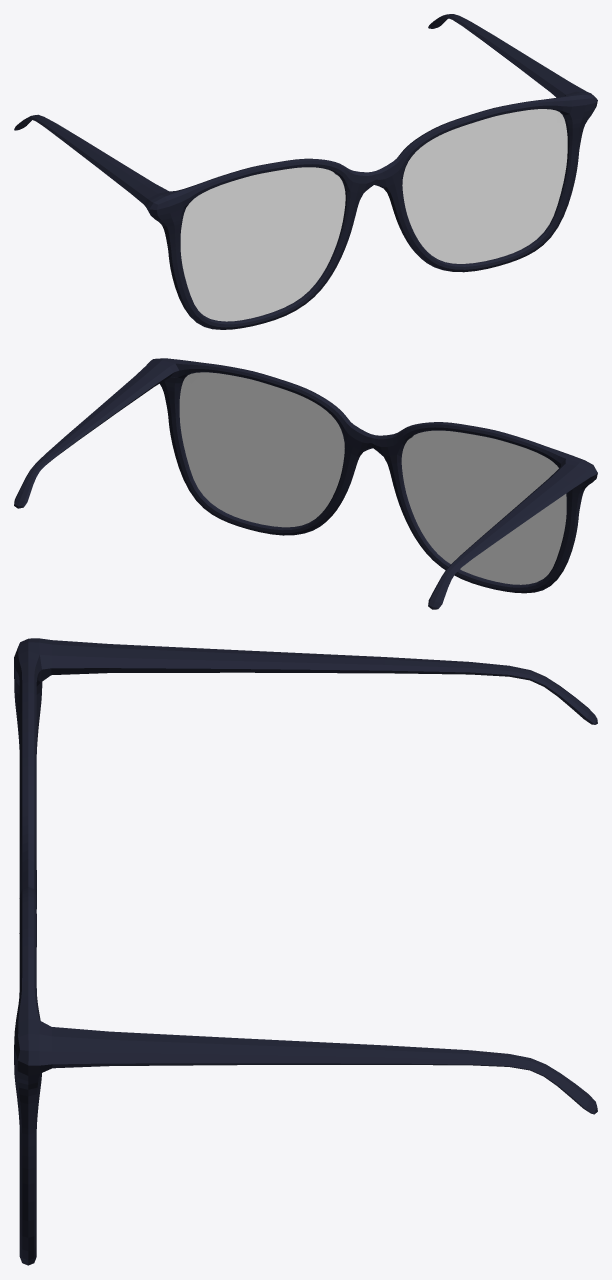
Rendered from Gafas_.fbx.
3 views of the same model, one above another, from view 1: azimuth 30°, elevation 25°; view 2: azimuth 150°, elevation 25°; view 3: azimuth 270°, elevation 25° (orthographic). The views are drawn at different scales.
Parts seen in each view (by area): view 1: Gafas(CON SS); view 2: Gafas(CON SS); view 3: Gafas(CON SS).
Part boxes in pixels (x1,y1,x2,y2): Gafas(CON SS): [14, 14, 597, 329]; Gafas(CON SS): [14, 358, 597, 609]; Gafas(CON SS): [14, 638, 597, 1265].
Bounding box in the file's own units: 27.6 × 9.3 × 16.2.
